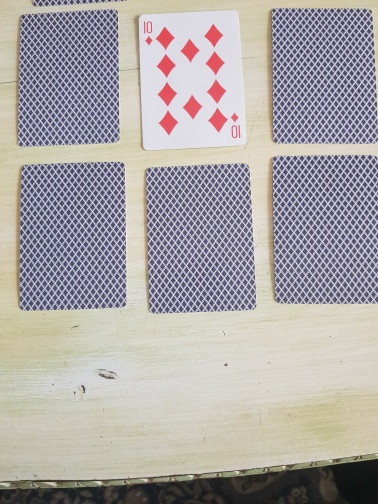ten: (137, 9, 248, 151)
